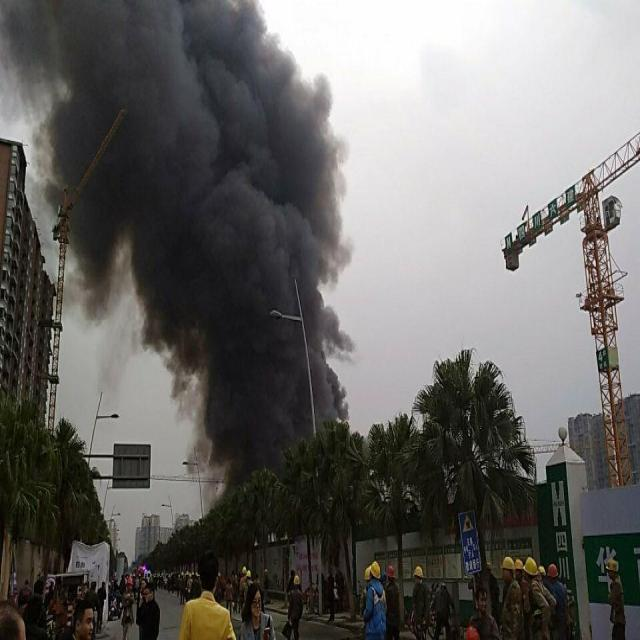smoke: (0, 0, 353, 474)
